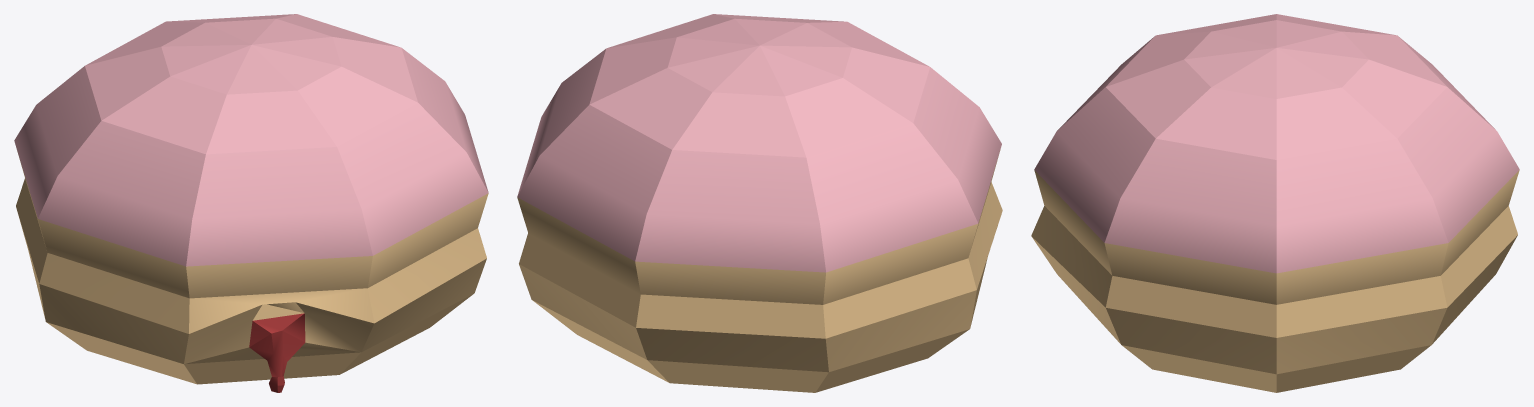
The model's file is Berliner.fbx.
3 views of the same model, side by side, from view 1: azimuth 30°, elevation 25°; view 2: azimuth 150°, elevation 25°; view 3: azimuth 270°, elevation 25° (orthographic). The views are drawn at different scales.
Visible parts, largest first — view 1: Berliner; view 2: Berliner; view 3: Berliner.
Part boxes in pixels (box(x1,y1,x2,y2)): Berliner: box(14, 14, 488, 392); Berliner: box(517, 14, 1002, 392); Berliner: box(1031, 14, 1519, 392).
Bounding box in the file's own units: 2.24 × 1.33 × 2.23.
